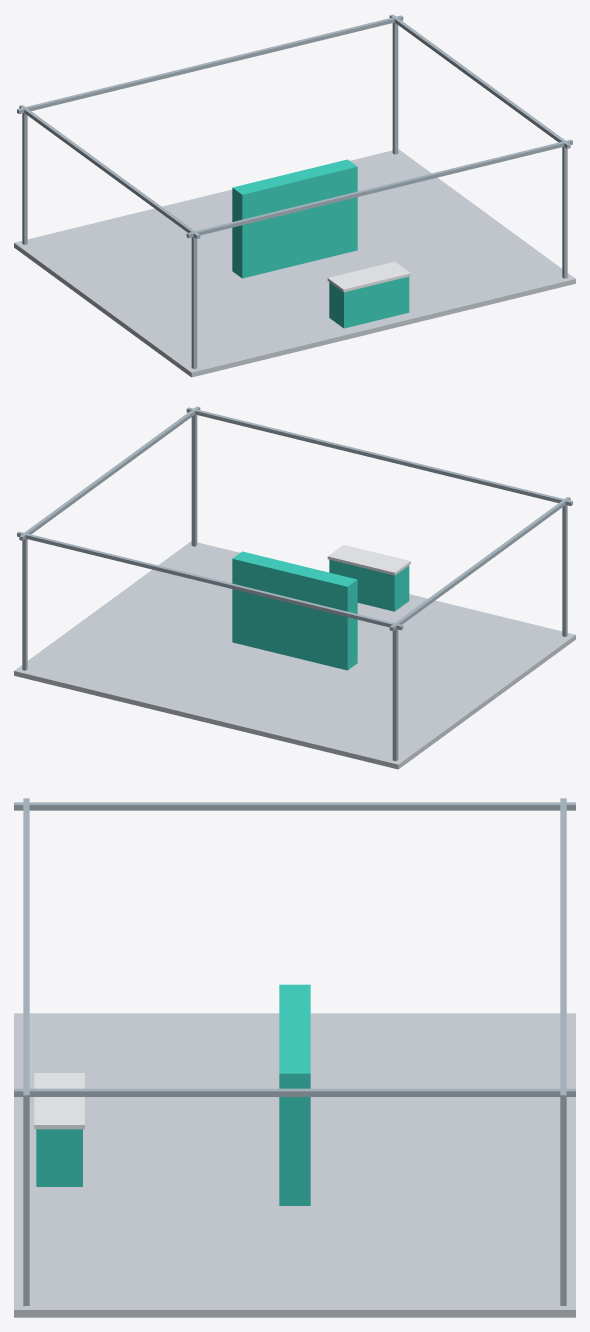
The picture shows the model from 3 angles, top to bottom: view 1: azimuth 30°, elevation 25°; view 2: azimuth 150°, elevation 25°; view 3: azimuth 270°, elevation 25°; orthographic projection. The views are drawn at different scales.
Visible parts, largest first — view 1: Exhibition Booth Concept; view 2: Exhibition Booth Concept; view 3: Exhibition Booth Concept.
Boxes of the visible parts, x1=… form: Exhibition Booth Concept: x1=14, y1=14, x2=575, y2=377; Exhibition Booth Concept: x1=14, y1=406, x2=575, y2=769; Exhibition Booth Concept: x1=14, y1=798, x2=575, y2=1317.
Bounding box in the file's own units: 10 × 3.49 × 8.
